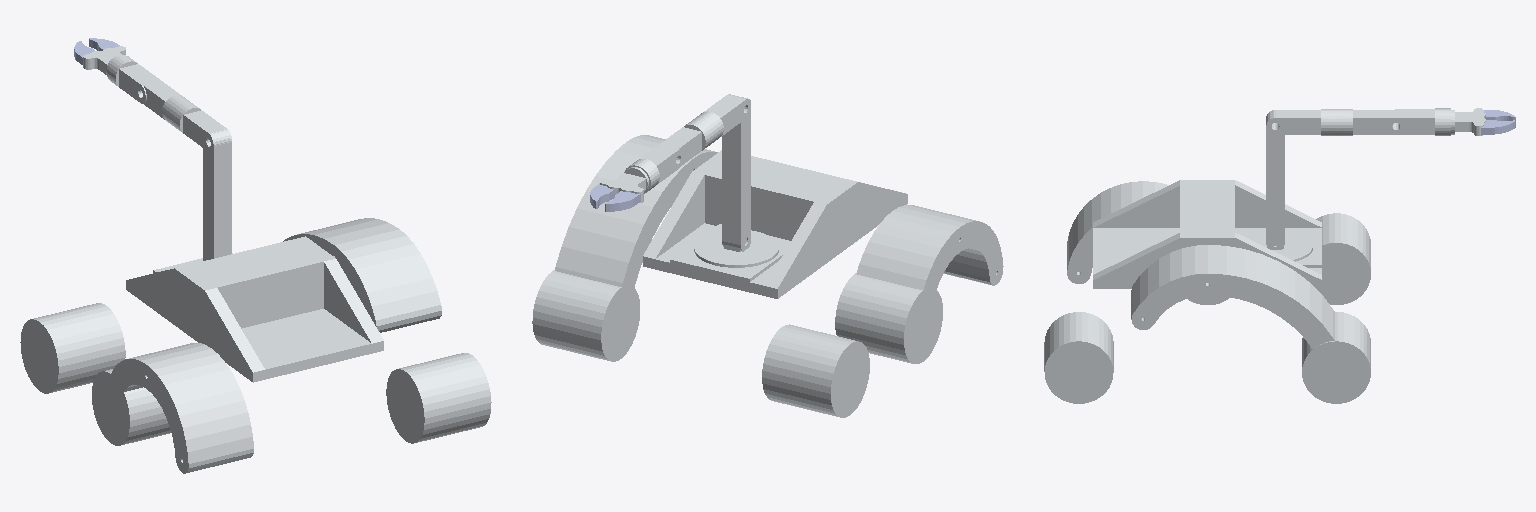
The robot description file, URDF, robot "rover":
<robot
  name="rover">
  <link
    name="base_link">
    <inertial>
      <origin
        xyz="0 0.006579 0.0635"
        rpy="0 0 0" />
      <mass
        value="64.84" />
      <inertia
        ixx="1.6"
        ixy="0"
        ixz="0"
        iyy="1.3"
        iyz="0"
        izz="2.57" />
    </inertial>
    <visual>
      <origin
        xyz="0 0 0"
        rpy="0 0 0" />
      <geometry>
        <mesh
          filename="package://rover_description/meshes/base_link.STL" />
      </geometry>
      <material
        name="">
        <color
          rgba="0.898039215686275 0.917647058823529 0.929411764705882 1" />
      </material>
    </visual>
    <collision>
      <origin
        xyz="0 0 0"
        rpy="0 0 0" />
      <geometry>
        <mesh
          filename="package://rover_description/meshes/base_link.STL" />
      </geometry>
    </collision>
  </link>
  <link
    name="rocker_right_link">
    <inertial>
      <origin
        xyz="0.1238 -0.09416 0"
        rpy="0 0 0" />
      <mass
        value="35.94" />
      <inertia
        ixx="0.45"
        ixy="-0.43"
        ixz="0"
        iyy="1.6"
        iyz="0"
        izz="1.78" />
    </inertial>
    <visual>
      <origin
        xyz="0 0 0"
        rpy="0 0 0" />
      <geometry>
        <mesh
          filename="package://rover_description/meshes/rocker_right_link.STL" />
      </geometry>
      <material
        name="">
        <color
          rgba="0.898039215686275 0.917647058823529 0.929411764705882 1" />
      </material>
    </visual>
    <collision>
      <origin
        xyz="0 0 0"
        rpy="0 0 0" />
      <geometry>
        <mesh
          filename="package://rover_description/meshes/rocker_right_link.STL" />
      </geometry>
    </collision>
  </link>
  <joint
    name="rocker_right_joint"
    type="revolute">
    <origin
      xyz="0.36238 0 0.1355"
      rpy="1.5707963267949 0 1.5707963267949" />
    <parent
      link="base_link" />
    <child
      link="rocker_right_link" />
    <axis
      xyz="0 0 -1" />
    <limit
      lower="-0.1"
      upper="0.1"
      effort="1000"
      velocity="1000" />
  </joint>
  <link
    name="rocker2_right_link">
    <inertial>
      <origin
        xyz="0 -0.0747764618585285 0"
        rpy="0 0 0" />
      <mass
        value="27.6866236147603" />
      <inertia
        ixx="0.23"
        ixy="0"
        ixz="0"
        iyy="0.7"
        iyz="0"
        izz="0.72" />
    </inertial>
    <visual>
      <origin
        xyz="0 0 0"
        rpy="0 0 0" />
      <geometry>
        <mesh
          filename="package://rover_description/meshes/rocker2_right_link.STL" />
      </geometry>
      <material
        name="">
        <color
          rgba="0.898039215686275 0.917647058823529 0.929411764705882 1" />
      </material>
    </visual>
    <collision>
      <origin
        xyz="0 0 0"
        rpy="0 0 0" />
      <geometry>
        <mesh
          filename="package://rover_description/meshes/rocker2_right_link.STL" />
      </geometry>
    </collision>
  </link>
  <joint
    name="rocker2_right_joint"
    type="revolute">
    <origin
      xyz="-0.2 -0.12 0"
      rpy="0 0 0" />
    <parent
      link="rocker_right_link" />
    <child
      link="rocker2_right_link" />
    <axis
      xyz="0 0 -1" />
    <limit
      lower="-0.1"
      upper="0.1"
      effort="1000"
      velocity="1000" />
  </joint>
  <link
    name="wheel_rm_link">
    <inertial>
      <origin
        xyz="0 0 0"
        rpy="0 0 0" />
      <mass
        value="21.27" />
      <inertia
        ixx="0.14"
        ixy="0"
        ixz="0"
        iyy="0.14"
        iyz="0"
        izz="0.12" />
    </inertial>
    <visual>
      <origin
        xyz="0 0 0"
        rpy="0 0 0" />
      <geometry>
        <mesh
          filename="package://rover_description/meshes/wheel_rm_link.STL" />
      </geometry>
      <material
        name="">
        <color
          rgba="0.898039215686275 0.917647058823529 0.929411764705882 1" />
      </material>
    </visual>
    <collision>
      <origin
        xyz="0 0 0"
        rpy="0 0 0" />
      <geometry>
        <mesh
          filename="package://rover_description/meshes/wheel_rm_link.STL" />
      </geometry>
    </collision>
  </link>
  <joint
    name="wheel_rm_joint"
    type="continuous">
    <origin
      xyz="0.2 -0.18 0.00224"
      rpy="3.14159265358979 0 3.14159265358979" />
    <parent
      link="rocker2_right_link" />
    <child
      link="wheel_rm_link" />
    <axis
      xyz="0 0 1" />
  </joint>
  <link
    name="wheel_rb_link">
    <inertial>
      <origin
        xyz="-2.0685E-11 8.507E-12 1.888E-11"
        rpy="0 0 0" />
      <mass
        value="21.2711171384753" />
      <inertia
        ixx="0.14"
        ixy="0.14"
        ixz="1.6"
        iyy="0.14"
        iyz="0"
        izz="0.12" />
    </inertial>
    <visual>
      <origin
        xyz="0 0 0"
        rpy="0 0 0" />
      <geometry>
        <mesh
          filename="package://rover_description/meshes/wheel_rb_link.STL" />
      </geometry>
      <material
        name="">
        <color
          rgba="0.898039215686275 0.917647058823529 0.929411764705882 1" />
      </material>
    </visual>
    <collision>
      <origin
        xyz="0 0 0"
        rpy="0 0 0" />
      <geometry>
        <mesh
          filename="package://rover_description/meshes/wheel_rb_link.STL" />
      </geometry>
    </collision>
  </link>
  <joint
    name="wheel_rb_joint"
    type="continuous">
    <origin
      xyz="-0.2 -0.18 0.00224"
      rpy="3.14159265358979 0 3.14159265358979" />
    <parent
      link="rocker2_right_link" />
    <child
      link="wheel_rb_link" />
    <axis
      xyz="0 0 1" />
  </joint>
  <link
    name="wheel_rf_link">
    <inertial>
      <origin
        xyz="2.06853423279085E-11 8.50683412600972E-12 1.88815629798E-11"
        rpy="0 0 0" />
      <mass
        value="21.2711171384753" />
      <inertia
        ixx="0.14"
        ixy="0"
        ixz="0"
        iyy="0.14"
        iyz="0"
        izz="0.12" />
    </inertial>
    <visual>
      <origin
        xyz="0 0 0"
        rpy="0 0 0" />
      <geometry>
        <mesh
          filename="package://rover_description/meshes/wheel_rf_link.STL" />
      </geometry>
      <material
        name="">
        <color
          rgba="0.898039215686275 0.917647058823529 0.929411764705882 1" />
      </material>
    </visual>
    <collision>
      <origin
        xyz="0 0 0"
        rpy="0 0 0" />
      <geometry>
        <mesh
          filename="package://rover_description/meshes/wheel_rf_link.STL" />
      </geometry>
    </collision>
  </link>
  <joint
    name="wheel_rf_joint"
    type="continuous">
    <origin
      xyz="0.400000000000001 -0.300000000000001 0.00223999999999996"
      rpy="3.14159265358979 0 3.14159265358979" />
    <parent
      link="rocker_right_link" />
    <child
      link="wheel_rf_link" />
    <axis
      xyz="0 0 1" />
  </joint>
  <link
    name="rocker_left_link">
    <inertial>
      <origin
        xyz="0.123763973803345 -0.0941583160648748 0"
        rpy="0 0 0" />
      <mass
        value="35.9378703370497" />
      <inertia
        ixx="0.45"
        ixy="-0.43"
        ixz="0"
        iyy="1.6"
        iyz="0"
        izz="1.78" />
    </inertial>
    <visual>
      <origin
        xyz="0 0 0"
        rpy="0 0 0" />
      <geometry>
        <mesh
          filename="package://rover_description/meshes/rocker_left_link.STL" />
      </geometry>
      <material
        name="">
        <color
          rgba="0.898039215686275 0.917647058823529 0.929411764705882 1" />
      </material>
    </visual>
    <collision>
      <origin
        xyz="0 0 0"
        rpy="0 0 0" />
      <geometry>
        <mesh
          filename="package://rover_description/meshes/rocker_left_link.STL" />
      </geometry>
    </collision>
  </link>
  <joint
    name="rocker_left_joint"
    type="revolute">
    <origin
      xyz="-0.36238 0 0.1355"
      rpy="1.5707963267949 0 1.5707963267949" />
    <parent
      link="base_link" />
    <child
      link="rocker_left_link" />
    <axis
      xyz="0 0 -1" />
    <limit
      lower="0"
      upper="1"
      effort="1000"
      velocity="1000" />
  </joint>
  <link
    name="rocker2_left_link">
    <inertial>
      <origin
        xyz="0 -0.07478 0"
        rpy="0 0 0" />
      <mass
        value="27.67" />
      <inertia
        ixx="0.23"
        ixy="0"
        ixz="0"
        iyy="0.7"
        iyz="0"
        izz="0.72" />
    </inertial>
    <visual>
      <origin
        xyz="0 0 0"
        rpy="0 0 0" />
      <geometry>
        <mesh
          filename="package://rover_description/meshes/rocker2_left_link.STL" />
      </geometry>
      <material
        name="">
        <color
          rgba="0.898039215686275 0.917647058823529 0.929411764705882 1" />
      </material>
    </visual>
    <collision>
      <origin
        xyz="0 0 0"
        rpy="0 0 0" />
      <geometry>
        <mesh
          filename="package://rover_description/meshes/rocker2_left_link.STL" />
      </geometry>
    </collision>
  </link>
  <joint
    name="rocker2_left_joint"
    type="revolute">
    <origin
      xyz="-0.2 -0.12 0"
      rpy="0 0 0" />
    <parent
      link="rocker_left_link" />
    <child
      link="rocker2_left_link" />
    <axis
      xyz="0 0 -1" />
    <limit
      lower="0"
      upper="1"
      effort="1000"
      velocity="1000" />
  </joint>
  <link
    name="wheel_lm_link">
    <inertial>
      <origin
        xyz="0 0 0"
        rpy="0 0 0" />
      <mass
        value="21.27" />
      <inertia
        ixx="0.14"
        ixy="0"
        ixz="0"
        iyy="0.14"
        iyz="0"
        izz="0.12" />
    </inertial>
    <visual>
      <origin
        xyz="0 0 0"
        rpy="0 0 0" />
      <geometry>
        <mesh
          filename="package://rover_description/meshes/wheel_lm_link.STL" />
      </geometry>
      <material
        name="">
        <color
          rgba="0.898039215686275 0.917647058823529 0.929411764705882 1" />
      </material>
    </visual>
    <collision>
      <origin
        xyz="0 0 0"
        rpy="0 0 0" />
      <geometry>
        <mesh
          filename="package://rover_description/meshes/wheel_lm_link.STL" />
      </geometry>
    </collision>
  </link>
  <joint
    name="wheel_lm_joint"
    type="continuous">
    <origin
      xyz="0.199999999999288 -0.180000000000774 0.00223999999999996"
      rpy="3.14159265358979 0 3.14159265358979" />
    <parent
      link="rocker2_left_link" />
    <child
      link="wheel_lm_link" />
    <axis
      xyz="0 0 1" />
  </joint>
  <link
    name="wheel_lb_link">
    <inertial>
      <origin
        xyz="-2.06852868167573E-11 8.50683412600972E-12 -1.85982340639157E-11"
        rpy="0 0 0" />
      <mass
        value="21.2711171384753" />
      <inertia
        ixx="0.14"
        ixy="0"
        ixz="0"
        iyy="0.14"
        iyz="0"
        izz="0.12" />
    </inertial>
    <visual>
      <origin
        xyz="0 0 0"
        rpy="0 0 0" />
      <geometry>
        <mesh
          filename="package://rover_description/meshes/wheel_lb_link.STL" />
      </geometry>
      <material
        name="">
        <color
          rgba="0.898039215686275 0.917647058823529 0.929411764705882 1" />
      </material>
    </visual>
    <collision>
      <origin
        xyz="0 0 0"
        rpy="0 0 0" />
      <geometry>
        <mesh
          filename="package://rover_description/meshes/wheel_lb_link.STL" />
      </geometry>
    </collision>
  </link>
  <joint
    name="wheel_lb_joint"
    type="continuous">
    <origin
      xyz="-0.200000000000712 -0.179999999999217 0.00223999999999996"
      rpy="3.14159265358979 0 3.14159265358979" />
    <parent
      link="rocker2_left_link" />
    <child
      link="wheel_lb_link" />
    <axis
      xyz="0 0 1" />
  </joint>
  <link
    name="wheel_lf_link">
    <inertial>
      <origin
        xyz="2.06852868167573E-11 8.50680637043411E-12 -1.85981230416132E-11"
        rpy="0 0 0" />
      <mass
        value="21.2711171384753" />
      <inertia
        ixx="0.14"
        ixy="0"
        ixz="0"
        iyy="0.14"
        iyz="0"
        izz="0.12" />
    </inertial>
    <visual>
      <origin
        xyz="0 0 0"
        rpy="0 0 0" />
      <geometry>
        <mesh
          filename="package://rover_description/meshes/wheel_lf_link.STL" />
      </geometry>
      <material
        name="">
        <color
          rgba="0.898039215686275 0.917647058823529 0.929411764705882 1" />
      </material>
    </visual>
    <collision>
      <origin
        xyz="0 0 0"
        rpy="0 0 0" />
      <geometry>
        <mesh
          filename="package://rover_description/meshes/wheel_lf_link.STL" />
      </geometry>
    </collision>
  </link>
  <joint
    name="wheel_lf_joint"
    type="continuous">
    <origin
      xyz="0.400000000000001 -0.300000000000001 0.00223999999999996"
      rpy="3.14159265358979 0 3.14159265358979" />
    <parent
      link="rocker_left_link" />
    <child
      link="wheel_lf_link" />
    <axis
      xyz="0 0 1" />
  </joint>
  <link
    name="arm_0_link">
    <inertial>
      <origin
        xyz="-1.91098359358932E-10 4.53883754183727E-13 0.00236199470061314"
        rpy="0 0 0" />
      <mass
        value="1.21176716350474" />
      <inertia
        ixx="0.003369"
        ixy="0"
        ixz="0"
        iyy="0.003362"
        iyz="0"
        izz="0.006314" />
    </inertial>
    <visual>
      <origin
        xyz="0 0 0"
        rpy="0 0 0" />
      <geometry>
        <mesh
          filename="package://rover_description/meshes/arm_0_link.STL" />
      </geometry>
      <material
        name="">
        <color
          rgba="0.898039215686275 0.917647058823529 0.929411764705882 1" />
      </material>
    </visual>
    <collision>
      <origin
        xyz="0 0 0"
        rpy="0 0 0" />
      <geometry>
        <mesh
          filename="package://rover_description/meshes/arm_0_link.STL" />
      </geometry>
    </collision>
  </link>
  <joint
    name="arm_0_joint"
    type="revolute">
    <origin
      xyz="0 0.210515193598891 0.0489624999999985"
      rpy="7.25955218412464E-32 9.38232446049391E-16 1.5707963267949" />
    <parent
      link="base_link" />
    <child
      link="arm_0_link" />
    <axis
      xyz="0 0 1" />
    <limit
      lower="-0.1"
      upper="0.1"
      effort="1000"
      velocity="1000" />
  </joint>
  <link
    name="arm_1_link">
    <inertial>
      <origin
        xyz="0 0.2 0"
        rpy="0 0 0" />
      <mass
        value="4.061" />
      <inertia
        ixx="0.06483"
        ixy="0"
        ixz="0"
        iyy="0.002386"
        iyz="0"
        izz="0.0673" />
    </inertial>
    <visual>
      <origin
        xyz="0 0 0"
        rpy="0 0 0" />
      <geometry>
        <mesh
          filename="package://rover_description/meshes/arm_1_link.STL" />
      </geometry>
      <material
        name="">
        <color
          rgba="0.898039215686275 0.917647058823529 0.929411764705882 1" />
      </material>
    </visual>
    <collision>
      <origin
        xyz="0 0 0"
        rpy="0 0 0" />
      <geometry>
        <mesh
          filename="package://rover_description/meshes/arm_1_link.STL" />
      </geometry>
    </collision>
  </link>
  <joint
    name="arm_1_joint"
    type="revolute">
    <origin
      xyz="0 0 0.024"
      rpy="1.5707963267949 0 -3.14159265358979" />
    <parent
      link="arm_0_link" />
    <child
      link="arm_1_link" />
    <axis
      xyz="0 0 1" />
    <limit
      lower="0"
      upper="0"
      effort="1000"
      velocity="1000" />
  </joint>
  <link
    name="arm_2_link">
    <inertial>
      <origin
        xyz="-0.09725 0.4 0"
        rpy="0 0 0" />
      <mass
        value="2.21938287476847" />
      <inertia
        ixx="0.009502"
        ixy="0"
        ixz="0"
        iyy="0.001521"
        iyz="0"
        izz="0.00947" />
    </inertial>
    <visual>
      <origin
        xyz="0 0 0"
        rpy="0 0 0" />
      <geometry>
        <mesh
          filename="package://rover_description/meshes/arm_2_link.STL" />
      </geometry>
      <material
        name="">
        <color
          rgba="0.898039215686275 0.917647058823529 0.929411764705882 1" />
      </material>
    </visual>
    <collision>
      <origin
        xyz="0 0 0"
        rpy="0 0 0" />
      <geometry>
        <mesh
          filename="package://rover_description/meshes/arm_2_link.STL" />
      </geometry>
    </collision>
  </link>
  <joint
    name="arm_2_joint"
    type="revolute">
    <origin
      xyz="0 0 0"
      rpy="0 0 0" />
    <parent
      link="arm_1_link" />
    <child
      link="arm_2_link" />
    <axis
      xyz="0 0 1" />
    <limit
      lower="0"
      upper="0"
      effort="1000"
      velocity="1000" />
  </joint>
  <link
    name="arm_3_link">
    <inertial>
      <origin
        xyz="0 0 -0.00306605480183964"
        rpy="0 0 0" />
      <mass
        value="4.37244564843694" />
      <inertia
        ixx="0.00866"
        ixy="0"
        ixz="0"
        iyy="0.008629"
        iyz="0"
        izz="0.001483" />
    </inertial>
    <visual>
      <origin
        xyz="0 0 0"
        rpy="0 0 0" />
      <geometry>
        <mesh
          filename="package://rover_description/meshes/arm_3_link.STL" />
      </geometry>
      <material
        name="">
        <color
          rgba="0.898039215686275 0.917647058823529 0.929411764705882 1" />
      </material>
    </visual>
    <collision>
      <origin
        xyz="0 0 0"
        rpy="0 0 0" />
      <geometry>
        <mesh
          filename="package://rover_description/meshes/arm_3_link.STL" />
      </geometry>
    </collision>
  </link>
  <joint
    name="arm_3_joint"
    type="revolute">
    <origin
      xyz="-0.19133 0.4 0"
      rpy="-1.5707963267949 0 1.5707963267949" />
    <parent
      link="arm_2_link" />
    <child
      link="arm_3_link" />
    <axis
      xyz="0 0 -1" />
    <limit
      lower="0"
      upper="0"
      effort="1000"
      velocity="1000" />
  </joint>
  <link
    name="arm_4_link">
    <inertial>
      <origin
        xyz="-2.42167841335572E-10 0.0867098014740727 0.00174999999938321"
        rpy="0 0 0" />
      <mass
        value="2.1483" />
      <inertia
        ixx="0.007713"
        ixy="0"
        ixz="0"
        iyy="0.001586"
        iyz="0"
        izz="0.007635" />
    </inertial>
    <visual>
      <origin
        xyz="0 0 0"
        rpy="0 0 0" />
      <geometry>
        <mesh
          filename="package://rover_description/meshes/arm_4_link.STL" />
      </geometry>
      <material
        name="">
        <color
          rgba="0.898039215686275 0.917647058823529 0.929411764705882 1" />
      </material>
    </visual>
    <collision>
      <origin
        xyz="0 0 0"
        rpy="0 0 0" />
      <geometry>
        <mesh
          filename="package://rover_description/meshes/arm_4_link.STL" />
      </geometry>
    </collision>
  </link>
  <joint
    name="arm_4_joint"
    type="revolute">
    <origin
      xyz="0 0 0.184329999999946"
      rpy="1.5707963267949 9.11814027060312E-17 -5.30063717498099E-14" />
    <parent
      link="arm_3_link" />
    <child
      link="arm_4_link" />
    <axis
      xyz="0 0 1" />
    <limit
      lower="0"
      upper="0"
      effort="1000"
      velocity="1000" />
  </joint>
  <link
    name="grip_base_link">
    <inertial>
      <origin
        xyz="0 0 0.05496"
        rpy="0 0 0" />
      <mass
        value="0.91583" />
      <inertia
        ixx="0.001072"
        ixy="0"
        ixz="0"
        iyy="0.001678"
        iyz="0"
        izz="0.00085953" />
    </inertial>
    <visual>
      <origin
        xyz="0 0 0"
        rpy="0 0 0" />
      <geometry>
        <mesh
          filename="package://rover_description/meshes/grip_base_link.STL" />
      </geometry>
      <material
        name="">
        <color
          rgba="0.898039215686275 0.917647058823529 0.929411764705882 1" />
      </material>
    </visual>
    <collision>
      <origin
        xyz="0 0 0"
        rpy="0 0 0" />
      <geometry>
        <mesh
          filename="package://rover_description/meshes/grip_base_link.STL" />
      </geometry>
    </collision>
  </link>
  <joint
    name="grip_base_joint"
    type="revolute">
    <!--origin
      xyz="0 0.17112 0.00175"
      rpy="1.57079632679488 -1.5707963267949 0" /-->
    <origin
      xyz="0 0.17112 0.00175"
      rpy="-1.57079632679488 -1.5707963267949 0" />
    <parent
      link="arm_4_link" />
    <child
      link="grip_base_link" />
    <axis
      xyz="0 0 -1" />
    <limit
      lower="0"
      upper="0"
      effort="1000"
      velocity="1000" />
  </joint>
  <link
    name="grip_right_link">
    <inertial>
      <origin
        xyz="0.0350008886397338 -0.0142009768870429 -3.6015697646441E-09"
        rpy="0 0 0" />
      <mass
        value="0.144453323106178" />
      <inertia
        ixx="0.00004351"
        ixy="-0.00000387"
        ixz="0"
        iyy="0.00016814"
        iyz="0"
        izz="0.0001978" />
    </inertial>
    <visual>
      <origin
        xyz="0 0 0"
        rpy="0 0 0" />
      <geometry>
        <mesh
          filename="package://rover_description/meshes/grip_right_link.STL" />
      </geometry>
      <material
        name="">
        <color
          rgba="0.792156862745098 0.819607843137255 0.933333333333333 1" />
      </material>
    </visual>
    <collision>
      <origin
        xyz="0 0 0"
        rpy="0 0 0" />
      <geometry>
        <mesh
          filename="package://rover_description/meshes/grip_right_link.STL" />
      </geometry>
    </collision>
  </link>
  <joint
    name="grip_right_joint"
    type="revolute">
    <origin
      xyz="-0.0203500000000001 0 0.085"
      rpy="-1.5707963267949 -1.5707963267949 0" />
    <parent
      link="grip_base_link" />
    <child
      link="grip_right_link" />
    <axis
      xyz="0 0 1" />
    <limit
      lower="0"
      upper="0"
      effort="1000"
      velocity="1000" />
  </joint>
  <link
    name="grip_left_link">
    <inertial>
      <origin
        xyz="0.0350008886397332 0.0142009768680419 -3.60157081935597E-09"
        rpy="0 0 0" />
      <mass
        value="0.144453323106178" />
      <inertia
        ixx="0.00004351"
        ixy="0.00016814"
        ixz="0"
        iyy="0.00016814"
        iyz="0"
        izz="0.0001978" />
    </inertial>
    <visual>
      <origin
        xyz="0 0 0"
        rpy="0 0 0" />
      <geometry>
        <mesh
          filename="package://rover_description/meshes/grip_left_link.STL" />
      </geometry>
      <material
        name="">
        <color
          rgba="0.792156862745098 0.819607843137255 0.933333333333333 1" />
      </material>
    </visual>
    <collision>
      <origin
        xyz="0 0 0"
        rpy="0 0 0" />
      <geometry>
        <mesh
          filename="package://rover_description/meshes/grip_left_link.STL" />
      </geometry>
    </collision>
  </link>
  <joint
    name="grip_left_joint"
    type="revolute">
    <origin
      xyz="0.0203499999999999 0 0.085"
      rpy="-1.5707963267949 -1.5707963267949 0" />
    <parent
      link="grip_base_link" />
    <child
      link="grip_left_link" />
    <axis
      xyz="0 0 1" />
    <limit
      lower="0"
      upper="0"
      effort="1000"
      velocity="1000" />
  </joint>
</robot>

--- What the picture shows (computed from the rendered views, not written in the file) ---
The picture shows the robot from 3 angles, left to right: view 1: azimuth 30°, elevation 25°; view 2: azimuth 150°, elevation 25°; view 3: azimuth 270°, elevation 25°; orthographic projection.
Model rover with 19 links and 18 joints (12 revolute, 6 continuous), rooted at base_link, posed every joint at zero.
Links seen in each view (by area): view 1: base_link, rocker2_left_link, rocker_right_link, wheel_rb_link, wheel_lf_link, arm_1_link, wheel_lm_link, arm_2_link, arm_4_link, arm_3_link, grip_base_link; view 2: base_link, rocker_right_link, rocker2_left_link, wheel_lf_link, wheel_rf_link, wheel_lm_link, arm_1_link, arm_0_link, arm_3_link, arm_4_link, arm_2_link, grip_base_link; view 3: base_link, rocker_right_link, wheel_rb_link, wheel_rf_link, wheel_lf_link, rocker2_left_link, arm_1_link, arm_2_link, arm_3_link, arm_4_link, arm_0_link, grip_base_link.
Boxes of the visible links, bbox=[...] form: base_link: bbox=[126, 236, 383, 382]; rocker2_left_link: bbox=[104, 343, 253, 473]; rocker_right_link: bbox=[283, 218, 441, 332]; wheel_rb_link: bbox=[386, 353, 491, 443]; wheel_lf_link: bbox=[20, 303, 125, 393]; arm_1_link: bbox=[203, 129, 231, 260]; wheel_lm_link: bbox=[92, 369, 170, 445]; arm_2_link: bbox=[171, 102, 231, 152]; arm_4_link: bbox=[107, 55, 159, 103]; arm_3_link: bbox=[139, 80, 189, 125]; grip_base_link: bbox=[83, 46, 125, 74]; base_link: bbox=[643, 150, 907, 298]; rocker_right_link: bbox=[555, 135, 717, 336]; rocker2_left_link: bbox=[856, 205, 1003, 338]; wheel_lf_link: bbox=[762, 324, 869, 417]; wheel_rf_link: bbox=[532, 270, 639, 361]; wheel_lm_link: bbox=[835, 273, 942, 363]; arm_1_link: bbox=[722, 94, 750, 251]; arm_0_link: bbox=[694, 230, 778, 267]; arm_3_link: bbox=[659, 118, 714, 165]; arm_4_link: bbox=[624, 145, 683, 193]; arm_2_link: bbox=[695, 94, 750, 142]; grip_base_link: bbox=[600, 167, 648, 202]; base_link: bbox=[1093, 180, 1321, 288]; rocker_right_link: bbox=[1131, 245, 1334, 348]; wheel_rb_link: bbox=[1044, 312, 1113, 403]; wheel_rf_link: bbox=[1302, 312, 1370, 403]; wheel_lf_link: bbox=[1316, 213, 1370, 304]; rocker2_left_link: bbox=[1067, 181, 1168, 283]; arm_1_link: bbox=[1266, 110, 1284, 249]; arm_2_link: bbox=[1266, 109, 1336, 135]; arm_3_link: bbox=[1337, 109, 1405, 135]; arm_4_link: bbox=[1387, 108, 1450, 135]; arm_0_link: bbox=[1246, 231, 1312, 261]; grip_base_link: bbox=[1451, 108, 1485, 135].
Bounding box of the posed robot: 0.9418 × 1.46 × 0.7881 m (x, y, z).
15 mesh visuals loaded from 19 distinct referenced files (15 binary STL); not drawn: 4 (reference not matched to a file when rendering).
